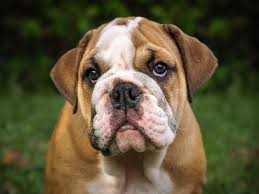Bulldog: (29, 4, 231, 194)
